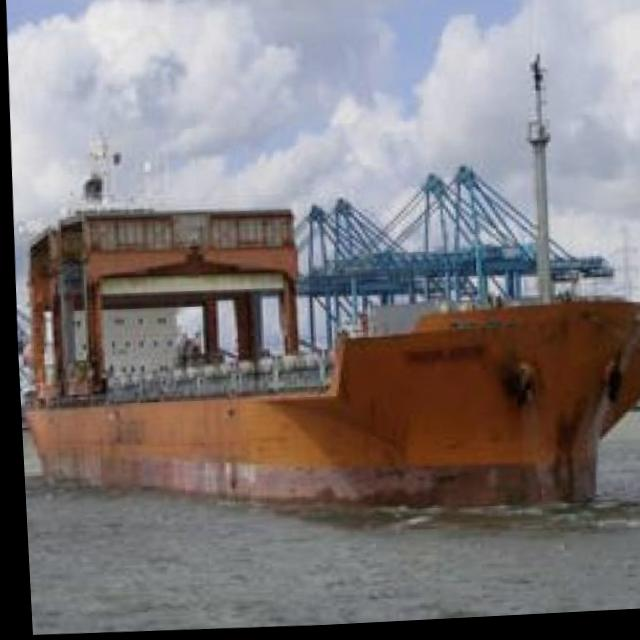ship2: (18, 62, 640, 521)
